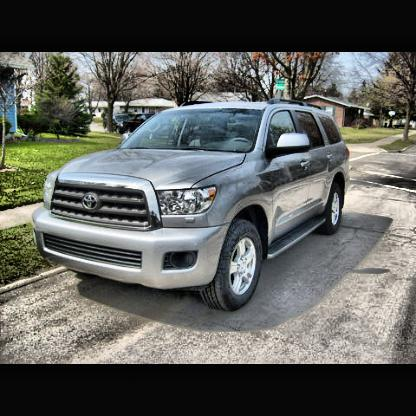Toyota Sequoia SUV 2012: (30, 101, 355, 307)
